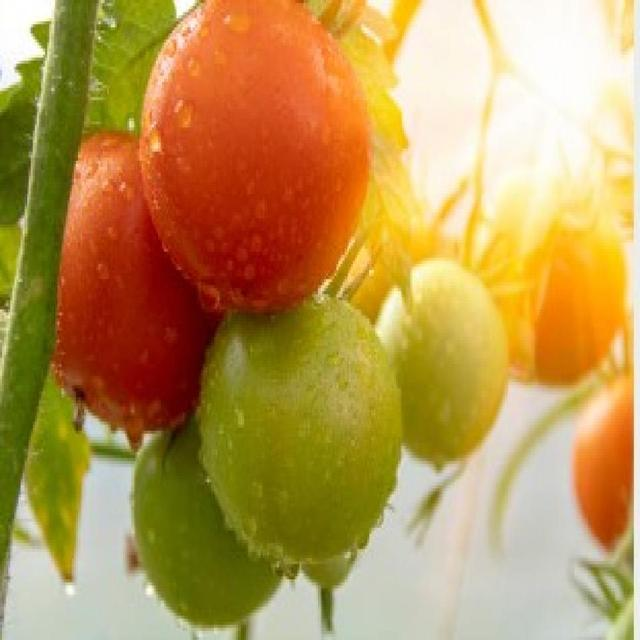Healthy Fruit: (84, 100, 166, 221)
